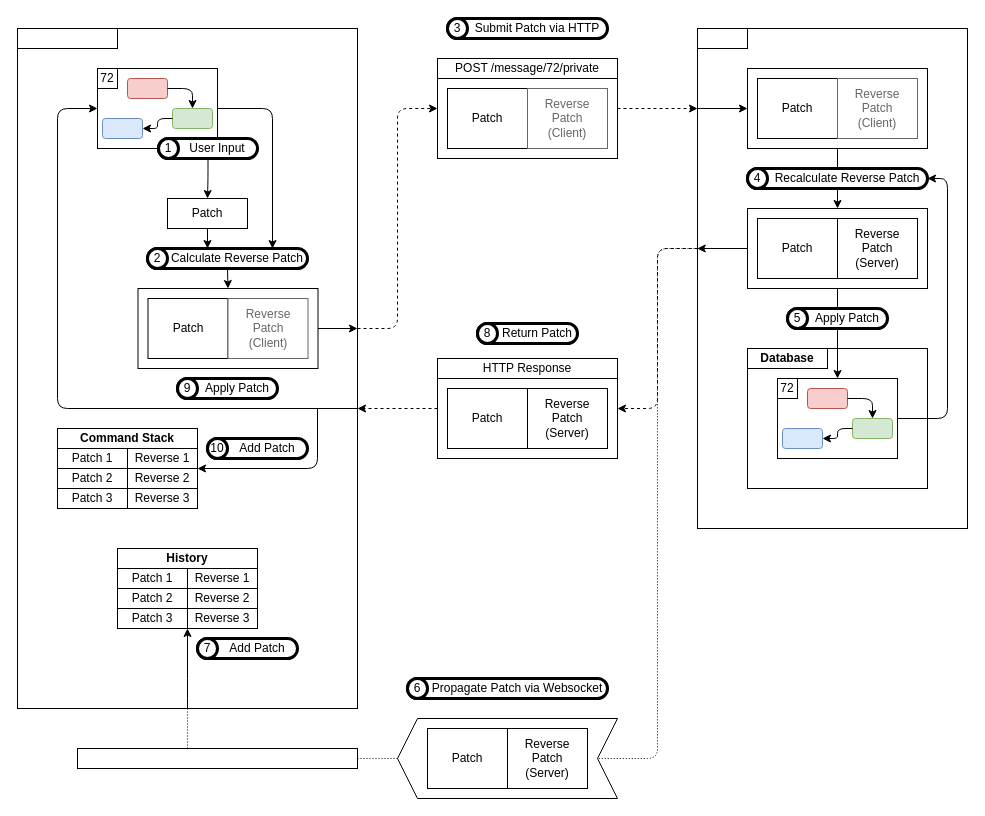
This 985x816 diagram has some shape labels left out. The box of each missing label's shape, as (x1, y1, x2, y2) in pixels:
/api/ws/project/72/<client-uuid>/private: (76, 748, 358, 768)
Client Session: (16, 28, 118, 48)
Server: (696, 28, 748, 48)
